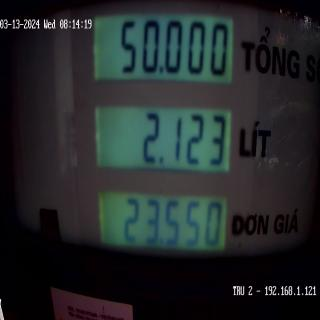screen: (89, 2, 239, 290)
